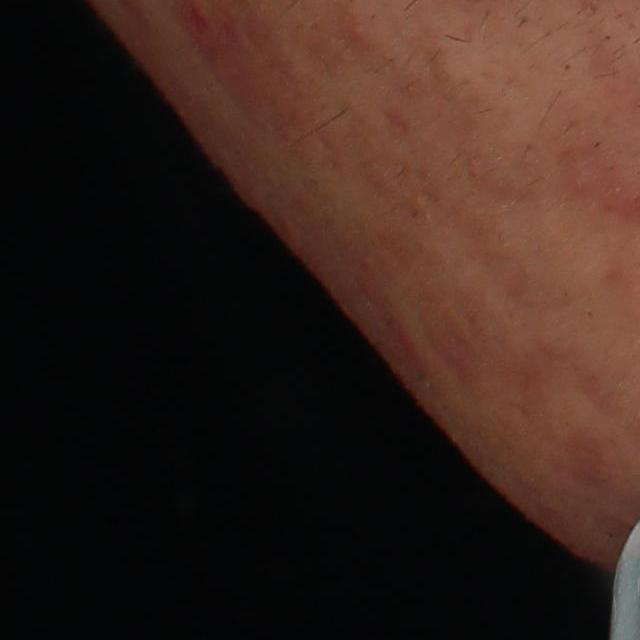papule: (337, 3, 387, 48)
